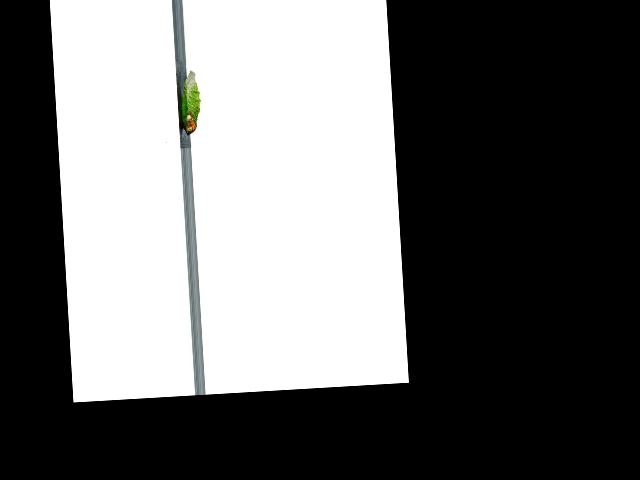lettuce: (175, 69, 204, 138)
